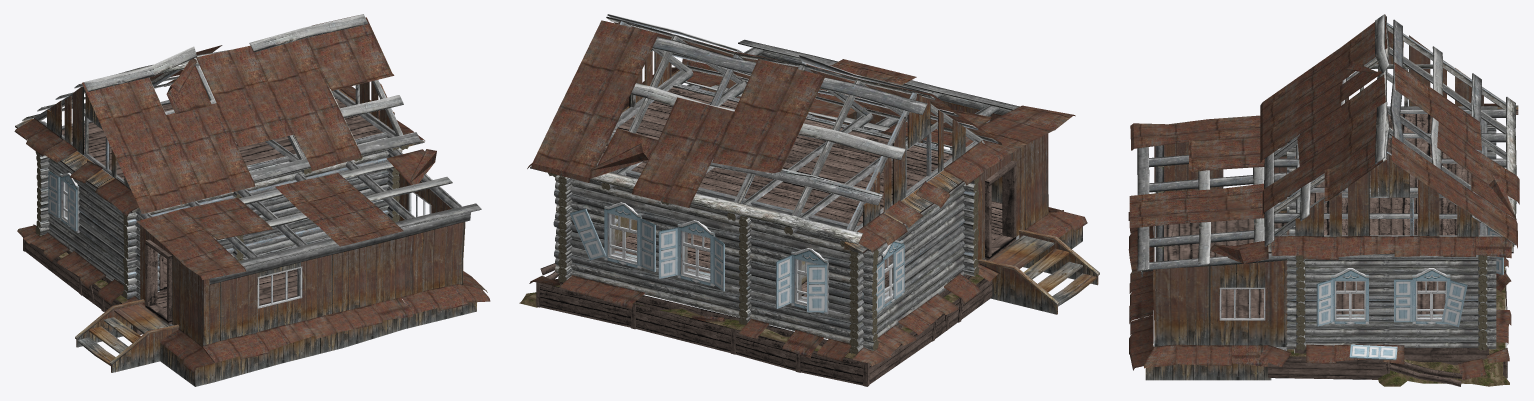
File: Nha_3.fbx
3 renders of one model, left to right at view 1: azimuth 30°, elevation 25°; view 2: azimuth 150°, elevation 25°; view 3: azimuth 270°, elevation 25°, orthographic. The views are drawn at different scales.
Parts seen in each view (by area): view 1: LOD_0_Metall03, LOD_0_WerandaWood, LOD_0_SrubWood_WoodPlanks_0, LOD_0_Obreshetka_stropily_WoodPlanks_0, LOD_0_Obreshetka_stropily_05 - Default_0, LOD_0_HouseInterior_04 - Default_0, LOD_0_DoorWood, LOD_0_ZavalinkaWood, LOD_0_HouseWindows, LOD_0_SrubWood_WoodBark_0, LOD_0_WerandaWindows_Window_0, LOD_0_HouseInterior_WoodPlanks_0; view 2: LOD_0_Metall03, LOD_0_SrubWood_WoodPlanks_0, LOD_0_Obreshetka_stropily_WoodPlanks_0, LOD_0_ZavalinkaWood, LOD_0_WerandaWood, LOD_0_HouseWindows, LOD_0_HouseInterior_04 - Default_0, LOD_0_Obreshetka_stropily_05 - Default_0, LOD_0_SrubWood_WoodBark_0, LOD_0_DoorWood, LOD_0_HouseInterior_WoodPlanks_0; view 3: LOD_0_Metall03, LOD_0_SrubWood_WoodPlanks_0, LOD_0_WerandaWood, LOD_0_Obreshetka_stropily_WoodPlanks_0, LOD_0_Obreshetka_stropily_05 - Default_0, LOD_0_ZavalinkaWood, LOD_0_HouseWindows, LOD_0_HouseInterior_04 - Default_0, LOD_0_SrubWood_WoodBark_0, LOD_0_WerandaWindows_Window_0.
Part boxes in pixels (<box>): LOD_0_Metall03: <box>14,16,490,373</box>; LOD_0_WerandaWood: <box>75,173,476,386</box>; LOD_0_SrubWood_WoodPlanks_0: <box>38,90,481,325</box>; LOD_0_Obreshetka_stropily_WoodPlanks_0: <box>22,14,420,183</box>; LOD_0_Obreshetka_stropily_05 - Default_0: <box>15,81,424,212</box>; LOD_0_HouseInterior_04 - Default_0: <box>62,97,382,282</box>; LOD_0_DoorWood: <box>145,239,172,324</box>; LOD_0_ZavalinkaWood: <box>23,234,166,334</box>; LOD_0_HouseWindows: <box>48,171,79,232</box>; LOD_0_SrubWood_WoodBark_0: <box>35,144,408,298</box>; LOD_0_WerandaWindows_Window_0: <box>257,192,431,308</box>; LOD_0_HouseInterior_WoodPlanks_0: <box>62,100,387,170</box>; LOD_0_Metall03: <box>527,20,1087,366</box>; LOD_0_SrubWood_WoodPlanks_0: <box>553,39,1019,351</box>; LOD_0_Obreshetka_stropily_WoodPlanks_0: <box>590,14,998,244</box>; LOD_0_ZavalinkaWood: <box>519,263,992,386</box>; LOD_0_WerandaWood: <box>701,55,1099,314</box>; LOD_0_HouseWindows: <box>570,202,904,314</box>; LOD_0_HouseInterior_04 - Default_0: <box>598,87,952,296</box>; LOD_0_Obreshetka_stropily_05 - Default_0: <box>530,22,965,253</box>; LOD_0_SrubWood_WoodBark_0: <box>548,172,979,354</box>; LOD_0_DoorWood: <box>985,160,1016,259</box>; LOD_0_HouseInterior_WoodPlanks_0: <box>596,83,952,228</box>; LOD_0_Metall03: <box>1128,14,1519,380</box>; LOD_0_SrubWood_WoodPlanks_0: <box>1137,109,1514,350</box>; LOD_0_WerandaWood: <box>1140,142,1294,380</box>; LOD_0_Obreshetka_stropily_WoodPlanks_0: <box>1264,14,1516,246</box>; LOD_0_Obreshetka_stropily_05 - Default_0: <box>1268,31,1518,251</box>; LOD_0_ZavalinkaWood: <box>1268,257,1509,386</box>; LOD_0_HouseWindows: <box>1316,227,1503,360</box>; LOD_0_HouseInterior_04 - Default_0: <box>1310,114,1479,314</box>; LOD_0_SrubWood_WoodBark_0: <box>1157,153,1487,350</box>; LOD_0_WerandaWindows_Window_0: <box>1153,192,1265,320</box>.
Size of the model in its own units: 11152 by 6665 by 10055.
